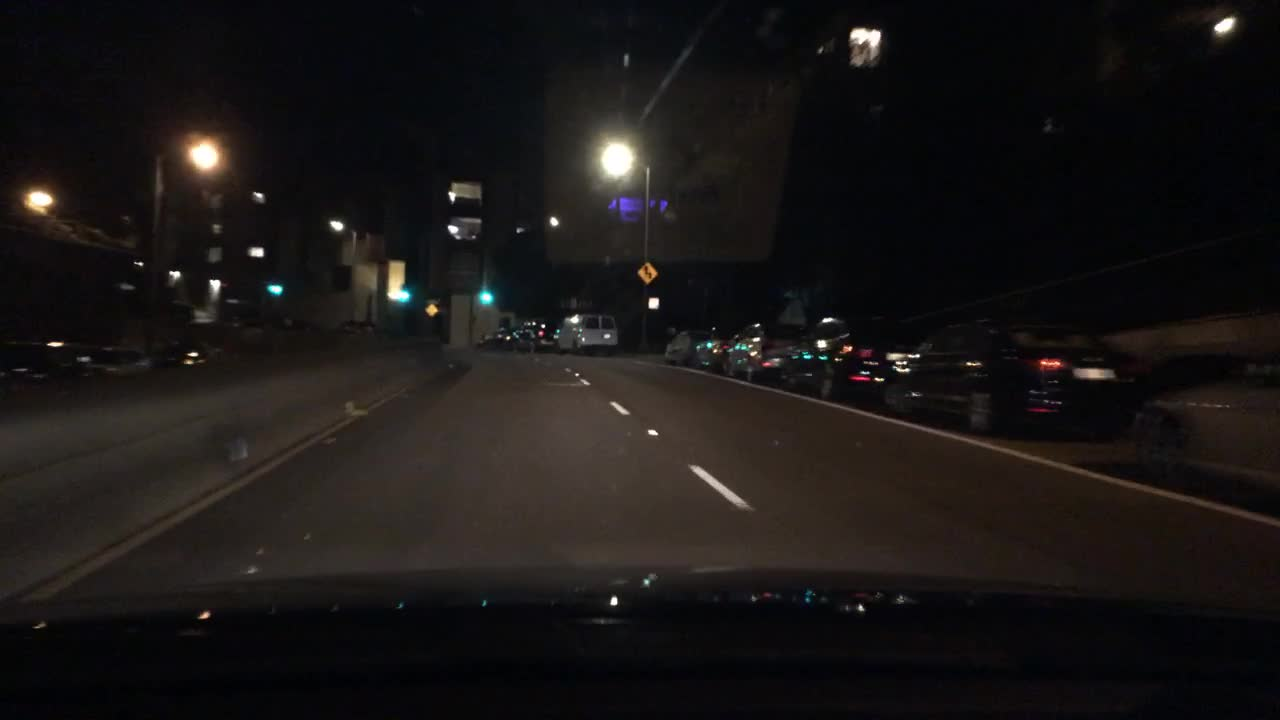car: (877, 315, 1142, 439), (1128, 349, 1277, 488), (776, 328, 904, 401), (721, 323, 816, 386), (0, 337, 92, 381), (557, 312, 618, 357), (82, 344, 153, 379), (158, 341, 219, 369), (662, 330, 705, 366), (514, 318, 557, 353), (692, 330, 727, 370), (231, 314, 297, 330), (334, 318, 373, 337), (488, 326, 517, 351), (475, 333, 492, 349)
traffic light: (477, 289, 494, 305), (266, 283, 282, 294), (399, 288, 409, 300)
traffic sign: (637, 262, 655, 286), (423, 303, 439, 316), (648, 297, 658, 308)
